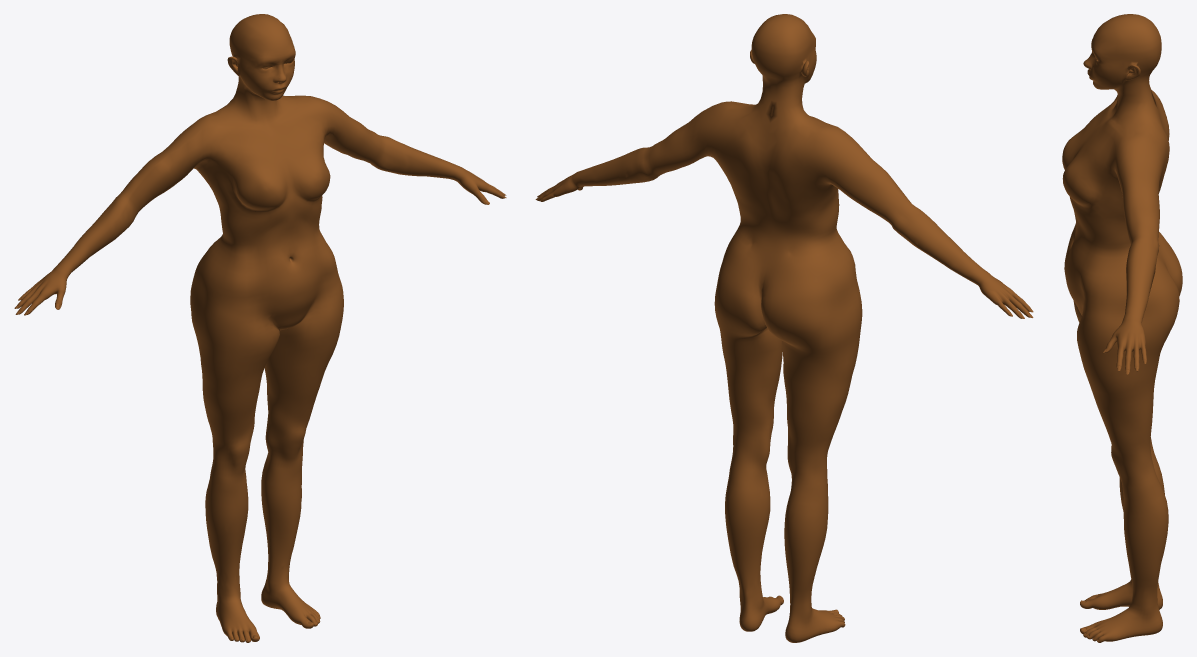
File: female_M_5.glb
The picture shows the model from 3 angles, left to right: view 1: azimuth 30°, elevation 25°; view 2: azimuth 150°, elevation 25°; view 3: azimuth 270°, elevation 25°; orthographic projection.
Parts seen in each view (by area): view 1: Body; view 2: Body; view 3: Body.
Part boxes in pixels (x1,y1,x2,y2): Body: (17, 14, 505, 642); Body: (537, 14, 1030, 642); Body: (1062, 14, 1182, 642).
Bounding box in the file's own units: 1.58 × 1.85 × 0.3332.
